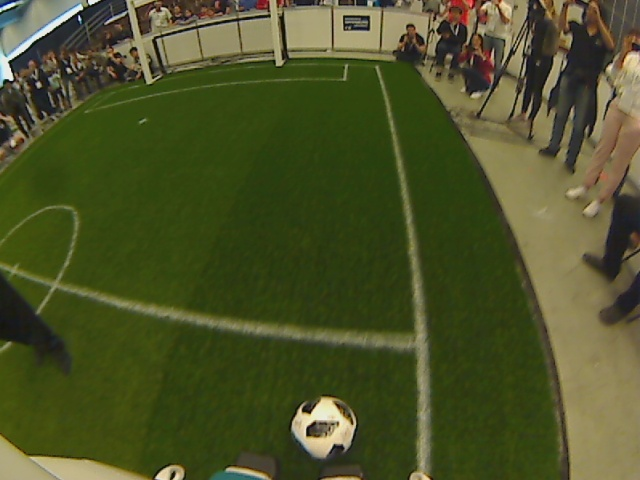ball: (286, 394, 359, 461)
goalpost: (134, 69, 159, 93), (267, 49, 289, 74)
